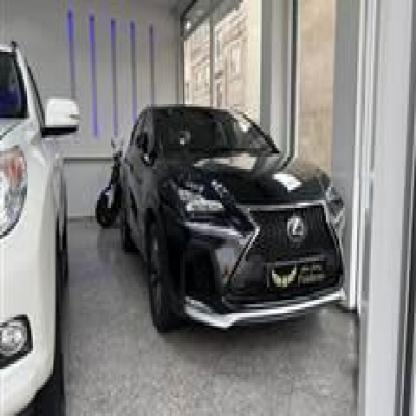Car: (115, 106, 350, 348), (0, 10, 78, 416)
